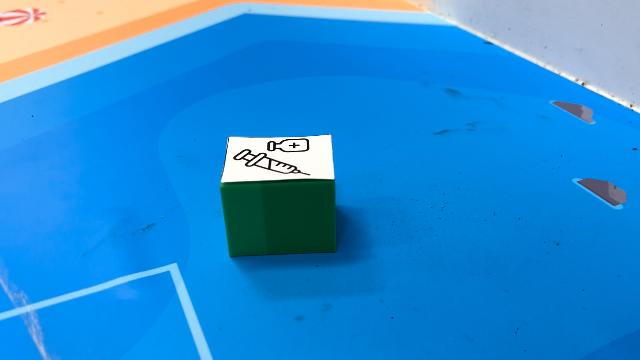syringe: (219, 133, 337, 256)
